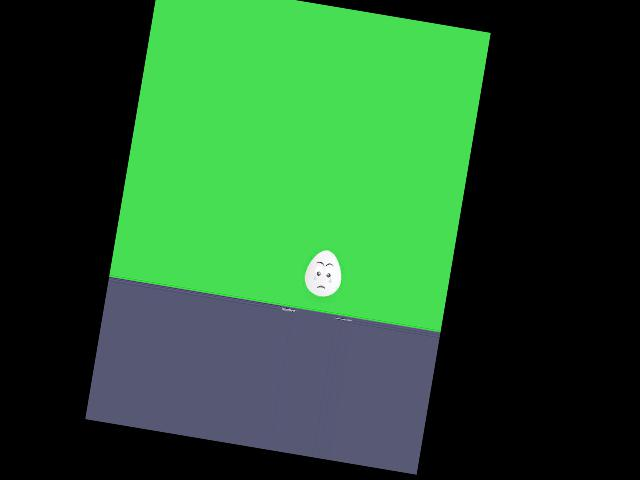egg: (302, 247, 345, 299)
